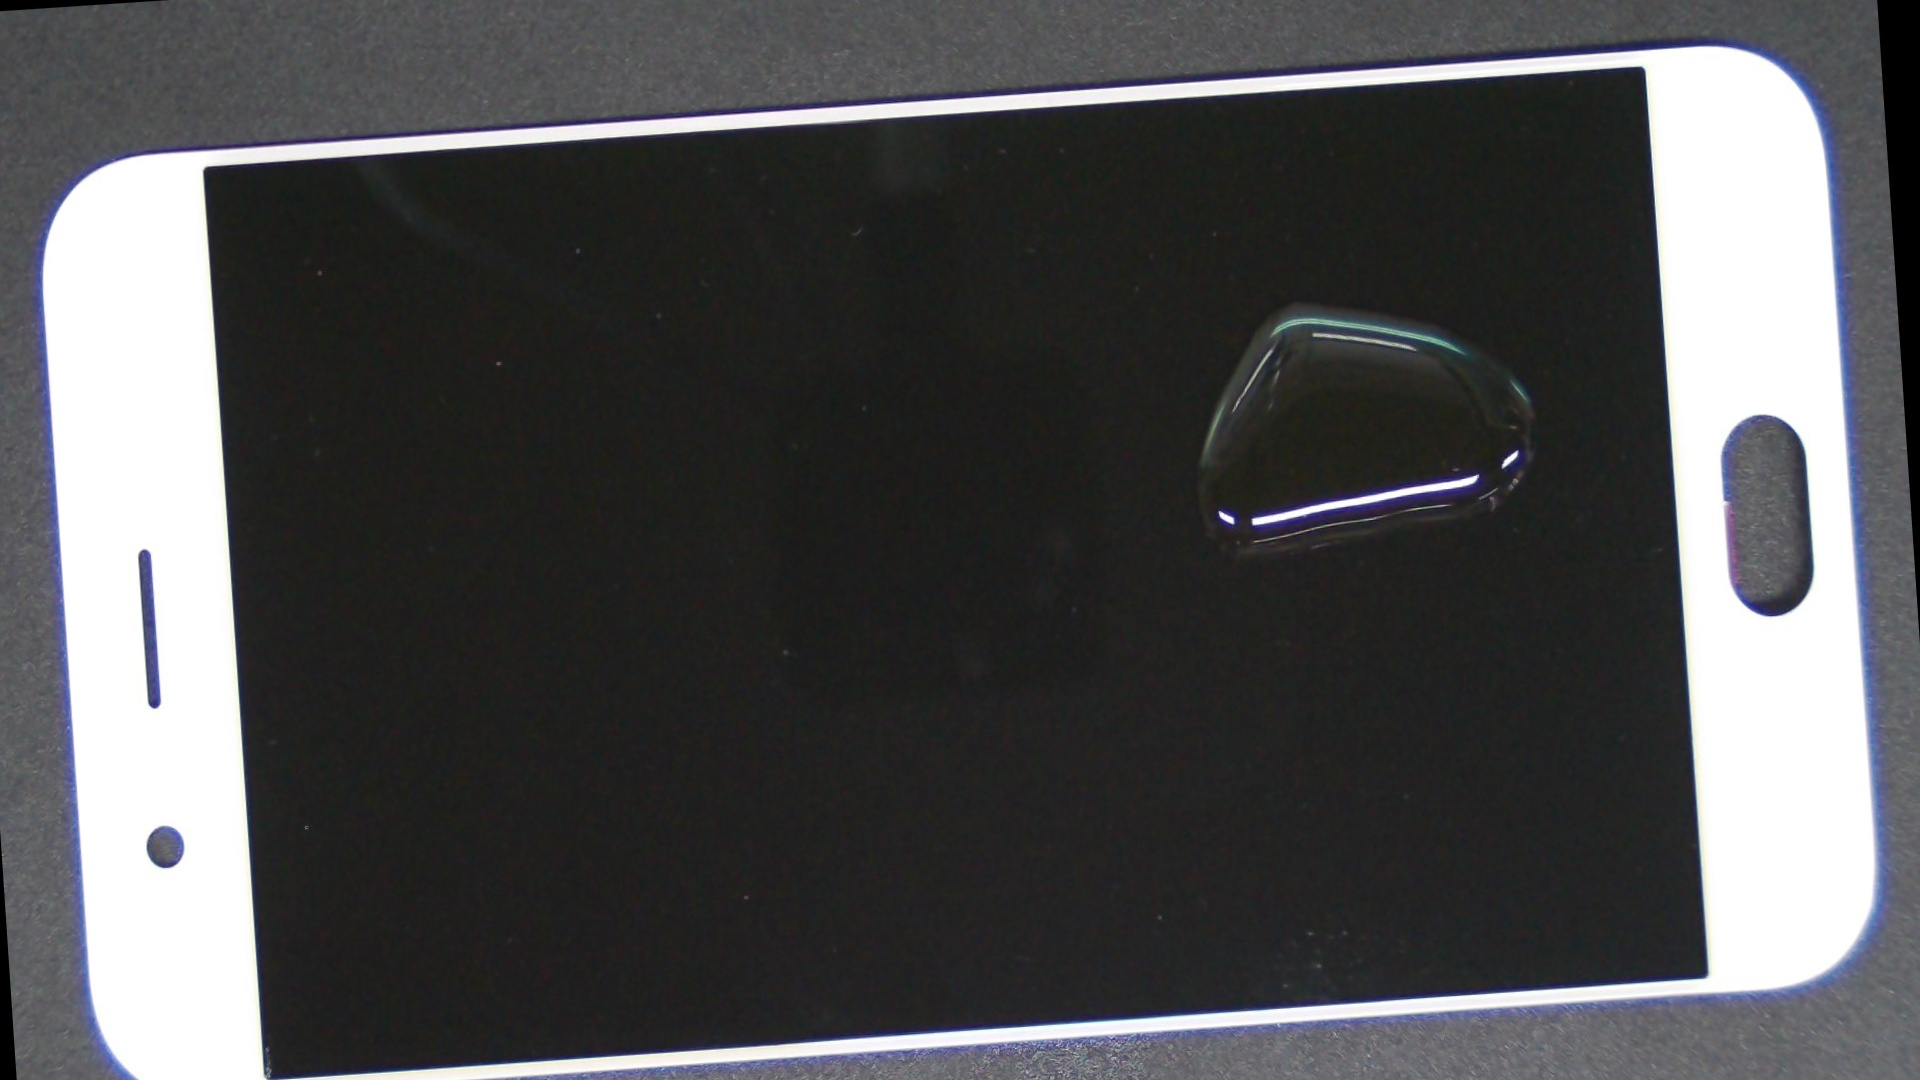oil: (626, 74, 1907, 534)
